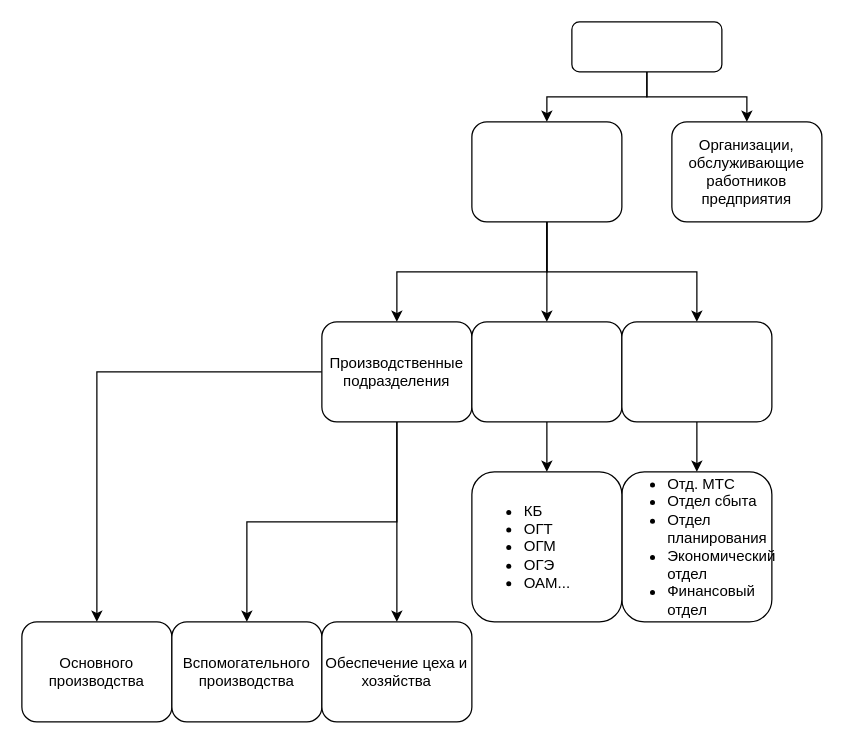
Image size: 844x744. Some labels were removed from this diagram. Here are the shapes that lost their labels. From the top down, the centre of each, then its label:
At point (646, 46): "Предприятие".
At point (546, 171): "Производственная структура".
At point (546, 371): "Службы технической подготовки производства".
At point (696, 371): "Службы функционального обслуживания производства".
